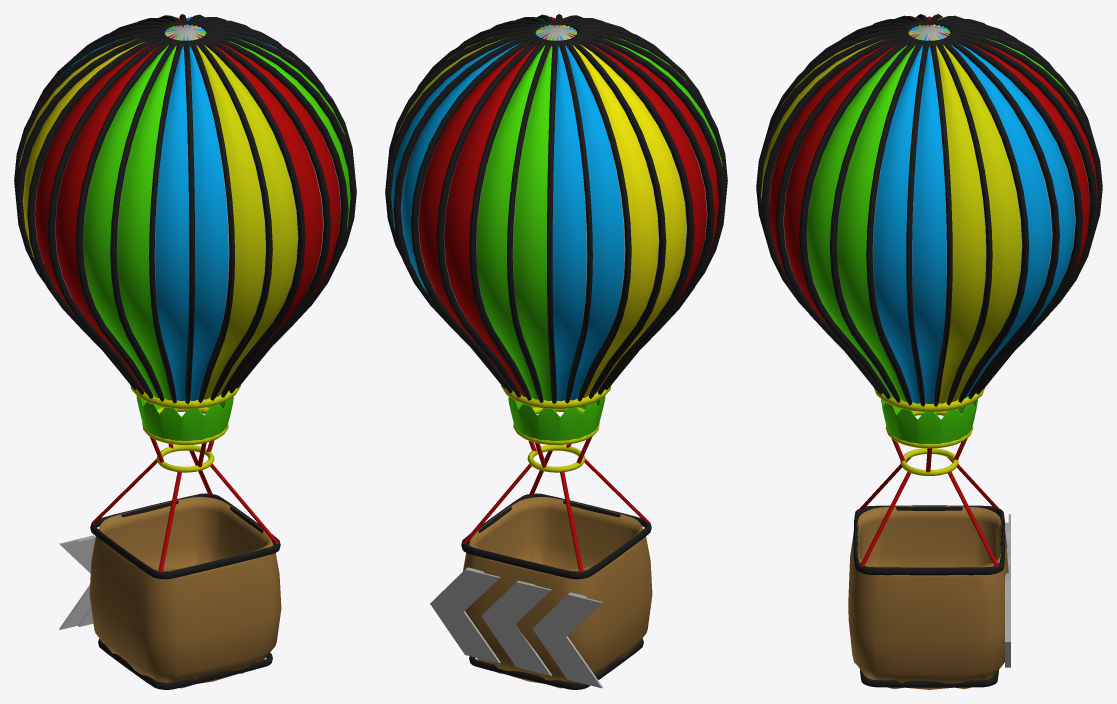
Rendered from HotairBalloon.fbx.
3 renders of one model, left to right at view 1: azimuth 30°, elevation 25°; view 2: azimuth 150°, elevation 25°; view 3: azimuth 270°, elevation 25°, orthographic.
Visible parts, largest first — view 1: Hotair_Balloon_Prefab, Hotair_Balloon_Arrows; view 2: Hotair_Balloon_Prefab, Hotair_Balloon_Arrows; view 3: Hotair_Balloon_Prefab, Hotair_Balloon_Arrows.
Part boxes in pixels (<box>): Hotair_Balloon_Prefab: <box>14,14,356,689</box>; Hotair_Balloon_Arrows: <box>59,535,95,629</box>; Hotair_Balloon_Prefab: <box>385,14,727,689</box>; Hotair_Balloon_Arrows: <box>430,567,602,688</box>; Hotair_Balloon_Prefab: <box>756,14,1102,689</box>; Hotair_Balloon_Arrows: <box>1005,514,1010,667</box>.
Size of the model in its own units: 0.0226 by 0.0467 by 0.0227.
